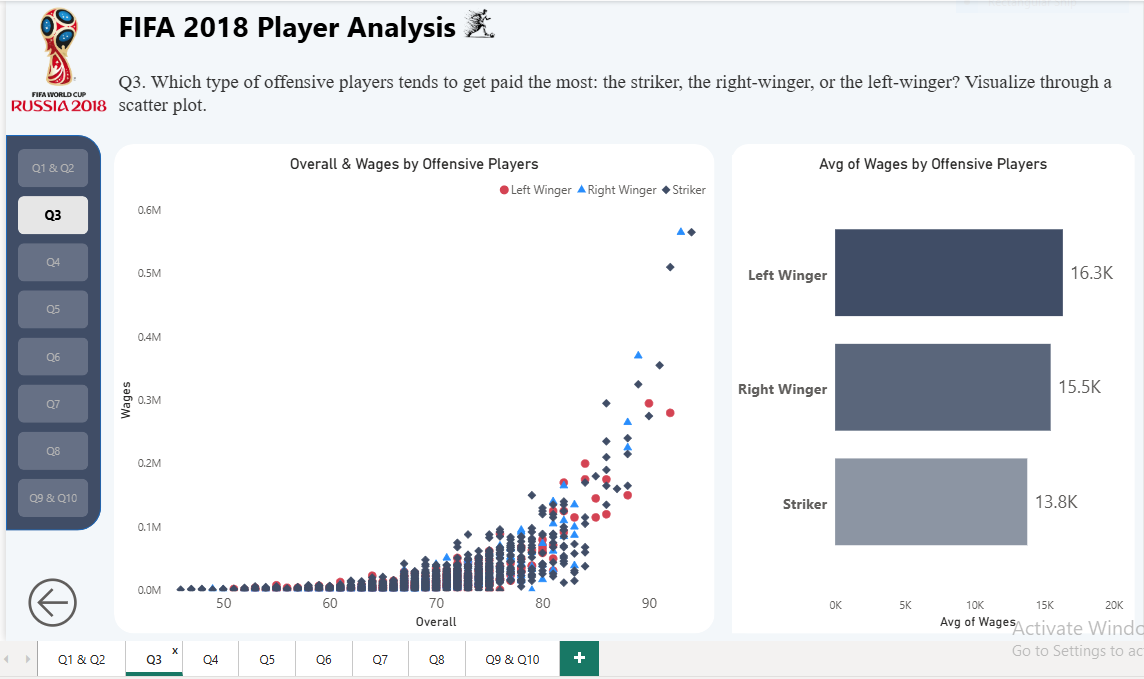

The page's visual inventory and layout, read from the dashboard file:
{"tool":"powerbi","page":{"name":"Q3","canvas":[1280,720],"ordinal":1},"visuals":[{"type":"shape","box":[121.1,160.6,675.7,550.8],"z":0},{"type":"shape","box":[0,150.4,107.1,444.9],"z":1000,"group":"g1"},{"type":"shape","box":[817.2,160.6,452.6,550.8],"z":1000},{"type":"textbox","box":[121.1,0,402.9,53.5],"z":2000},{"type":"scatterChart","title":"Overall & Wages by Offensive Players","fields":{"Series":["FIFA 2018 Dataset.Position Full Form"],"Y":["FIFA 2018 Dataset.Clean Wages"],"X":["FIFA 2018 Dataset.Overall"]},"box":[121.1,173.4,675.7,538],"z":3000},{"type":"barChart","title":"Avg of Wages by Offensive Players","fields":{"Category":["FIFA 2018 Dataset.Position Full Form"],"Y":["Avg(FIFA 2018 Dataset.Clean Wages)"]},"box":[817.2,173.4,452.6,538],"z":4000},{"type":"textbox","box":[121.1,73.9,1148.7,75.2],"z":5000},{"type":"image","box":[0,0,119.8,130],"z":6000},{"type":"image","box":[484.5,0,95.6,50],"z":7000},{"type":"group","id":"g1","title":"Group 1","box":[0,150.4,107.1,444.9],"z":7001},{"type":"actionButton","box":[17.8,642.5,70.1,68.8],"z":7002},{"type":"pageNavigator","box":[14,165.7,79,415.6],"z":8000,"group":"g1"}]}

Visuals, with their boxes on the page's 1280x720 design canvas (x1, y1, x2, y2). These are canvas units, not pixel positions in the 1144x679 screenshot, which may show the page scaled, cropped or inside an application window:
shape: (121,161,797,711)
shape: (0,150,107,595)
shape: (817,161,1270,711)
textbox: (121,0,524,54)
"Overall & Wages by Offensive Players" scatterChart: (121,173,797,711)
"Avg of Wages by Offensive Players" barChart: (817,173,1270,711)
textbox: (121,74,1270,149)
image: (0,0,120,130)
image: (484,0,580,50)
"Group 1" group: (0,150,107,595)
actionButton: (18,642,88,711)
pageNavigator: (14,166,93,581)
